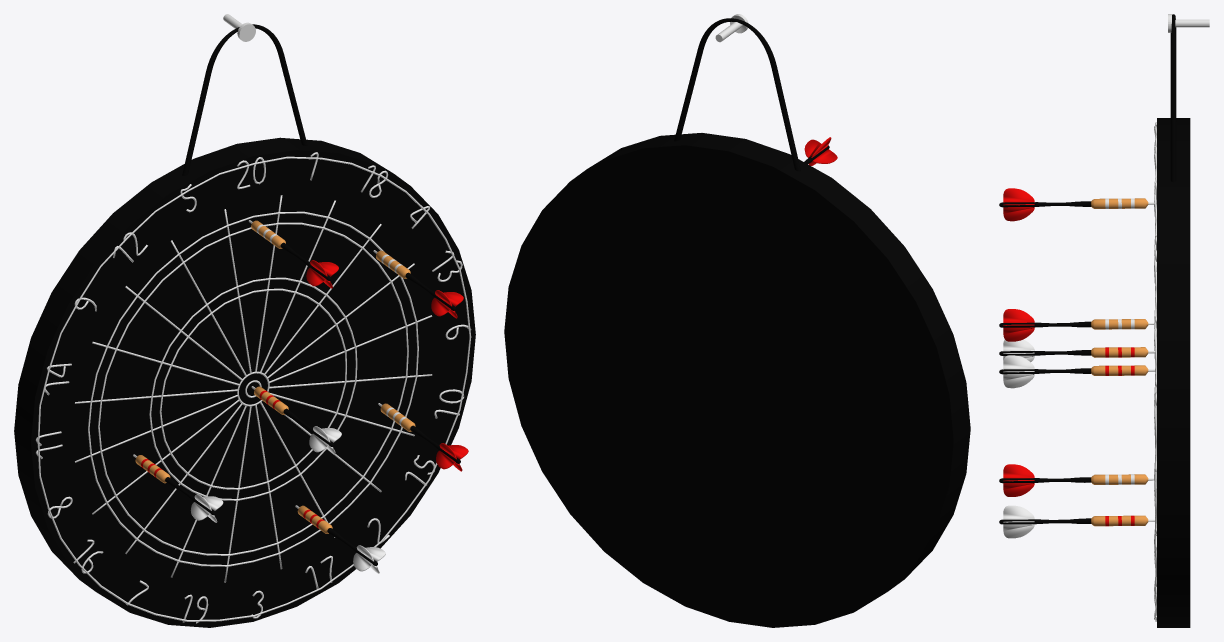
Rendered from dartboard.fbx.
The picture shows the model from 3 angles, left to right: view 1: azimuth 30°, elevation 25°; view 2: azimuth 150°, elevation 25°; view 3: azimuth 270°, elevation 25°; orthographic projection.
Parts seen in each view (by area): view 1: Cylinder, Circle.002, circle.001; view 2: Cylinder, circle.001; view 3: Cylinder, circle.001, Circle.002.
Part boxes in pixels (left/top/right/bottom): Cylinder: left=14, top=14, right=475, bottom=627; Circle.002: left=35, top=152, right=471, bottom=623; circle.001: left=133, top=220, right=468, bottom=573; Cylinder: left=504, top=14, right=970, bottom=627; circle.001: left=804, top=137, right=837, bottom=165; Cylinder: left=1157, top=14, right=1209, bottom=627; circle.001: left=999, top=188, right=1155, bottom=538; Circle.002: left=1154, top=122, right=1156, bottom=621.
Size of the model in its own units: 54.84 by 69.87 by 22.61.
